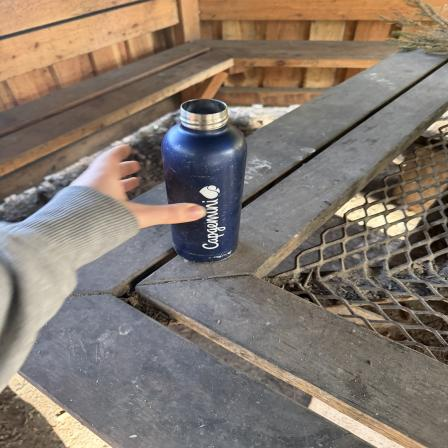blue_bottle: (159, 99, 247, 262)
